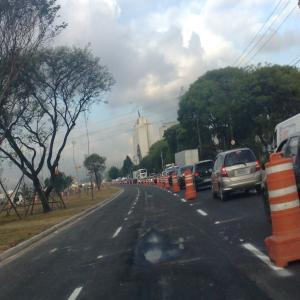Vehicle-registration-plate: (237, 170, 248, 176), (206, 179, 212, 183)
